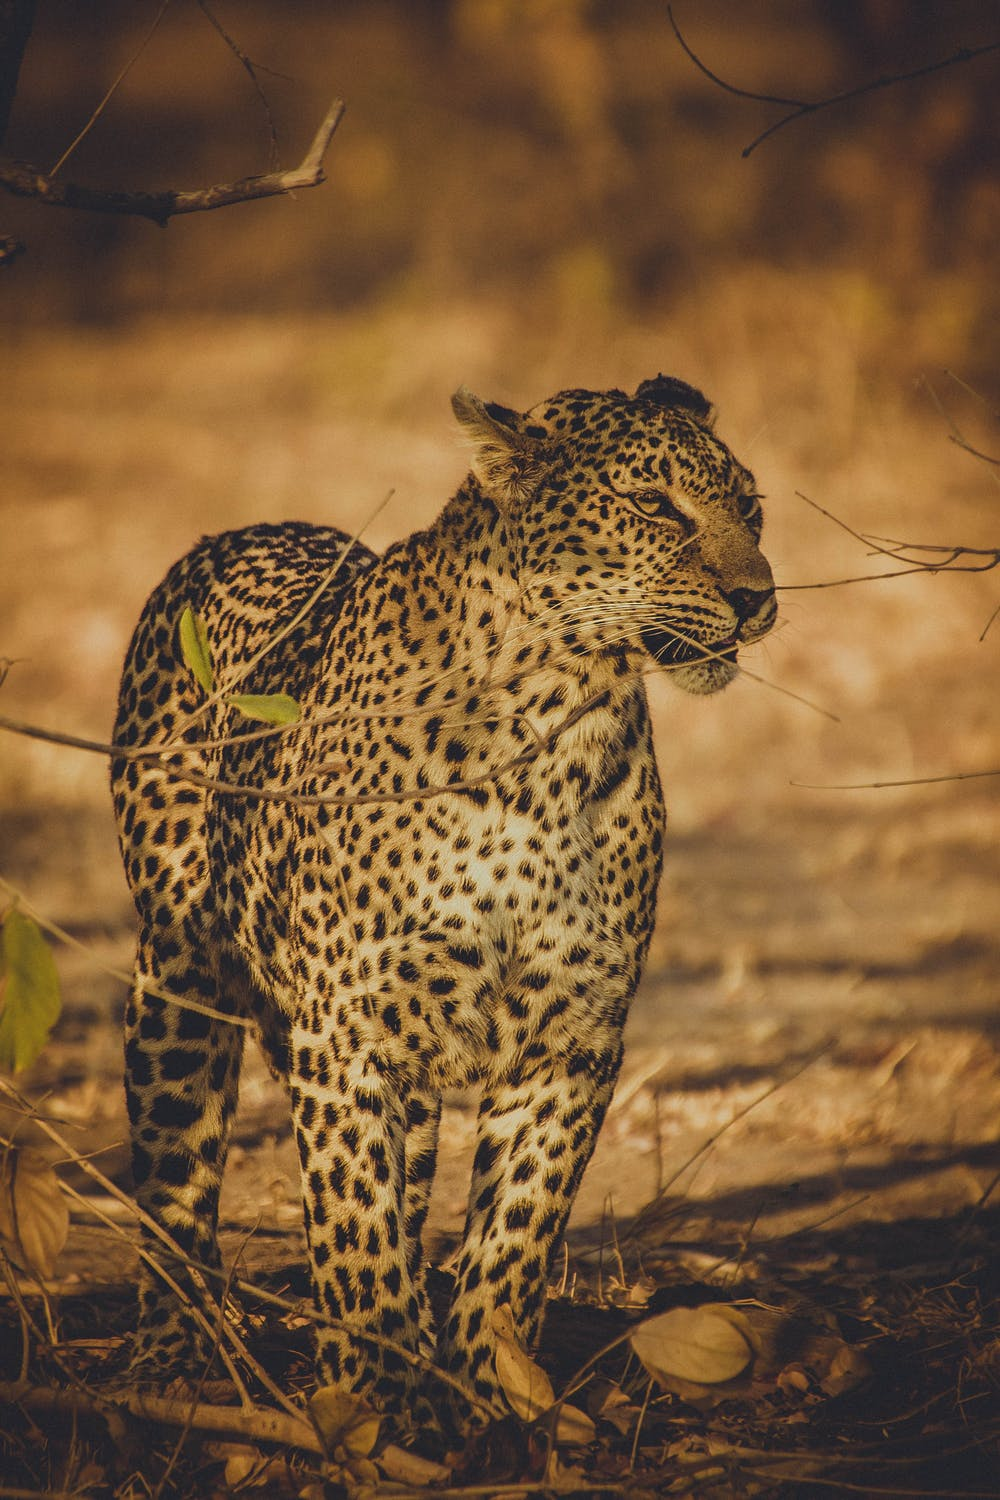cheetah: (419, 358, 812, 714)
